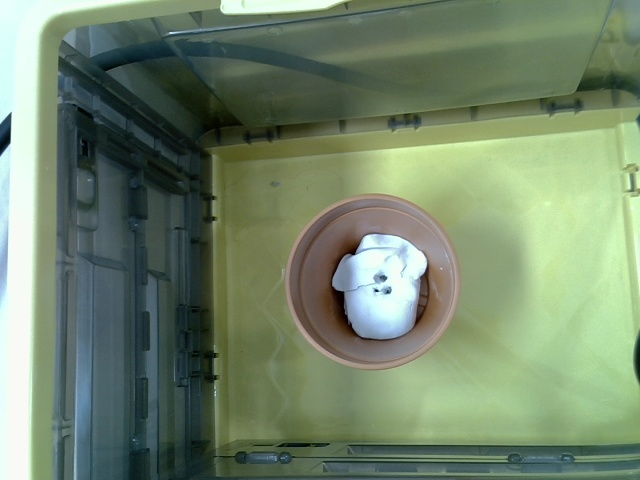화분: (284, 191, 465, 370)
